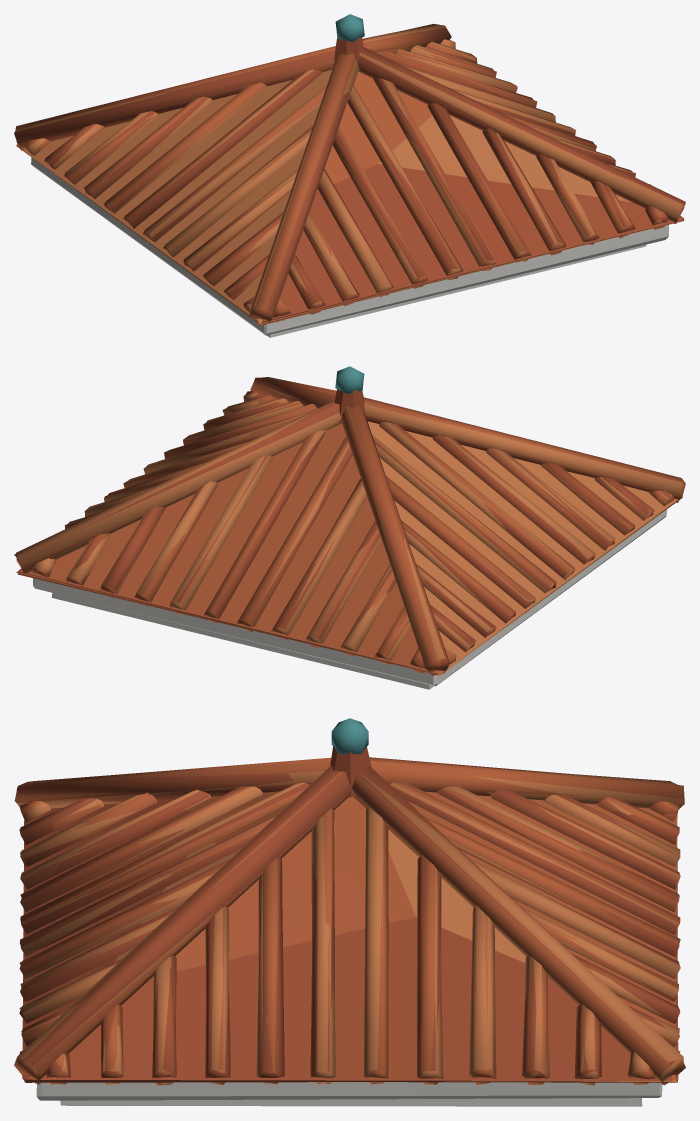
File: roof.hip.glb
3 views of the same model, one above another, from view 1: azimuth 30°, elevation 25°; view 2: azimuth 150°, elevation 25°; view 3: azimuth 270°, elevation 25° (orthographic). The views are drawn at different scales.
Visible parts, largest first — view 1: roof.hip.v2.mesh, roof.hip.v1.mesh, roof.hip.v0.mesh; view 2: roof.hip.v0.mesh, roof.hip.v1.mesh, roof.hip.v2.mesh; view 3: roof.hip.v2.mesh, roof.hip.v0.mesh, roof.hip.v1.mesh.
Boxes of the visible parts, x1,y1,x2,y2 form: roof.hip.v2.mesh: [14, 32, 685, 324]; roof.hip.v1.mesh: [15, 23, 684, 337]; roof.hip.v0.mesh: [15, 14, 685, 335]; roof.hip.v0.mesh: [17, 366, 685, 686]; roof.hip.v1.mesh: [16, 377, 682, 689]; roof.hip.v2.mesh: [14, 377, 678, 675]; roof.hip.v2.mesh: [16, 746, 679, 1085]; roof.hip.v0.mesh: [14, 718, 685, 1100]; roof.hip.v1.mesh: [14, 762, 683, 1106].
Bounding box in the file's own units: 2.44 × 1.07 × 2.45.
